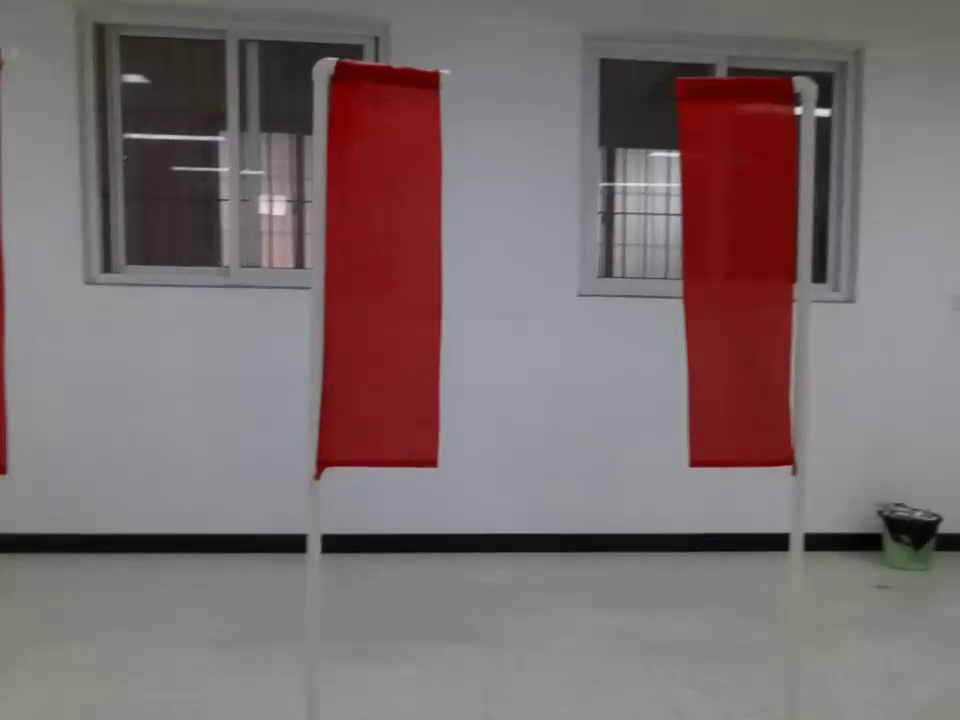qi: (299, 53, 452, 496), (669, 72, 814, 497)
